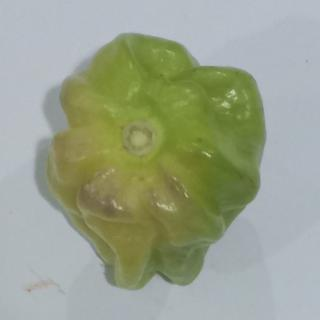Grade-A: (37, 26, 275, 290)
